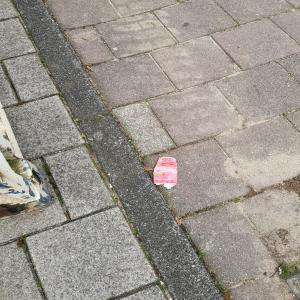Can: (151, 154, 184, 193)
